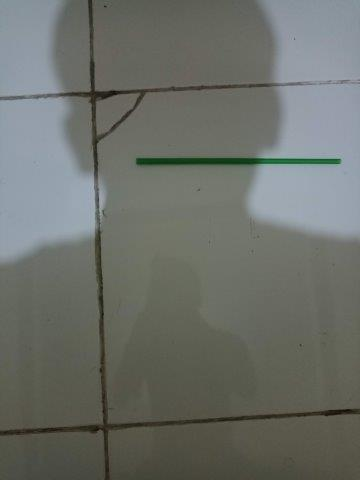sedotan: (136, 158, 341, 165)
